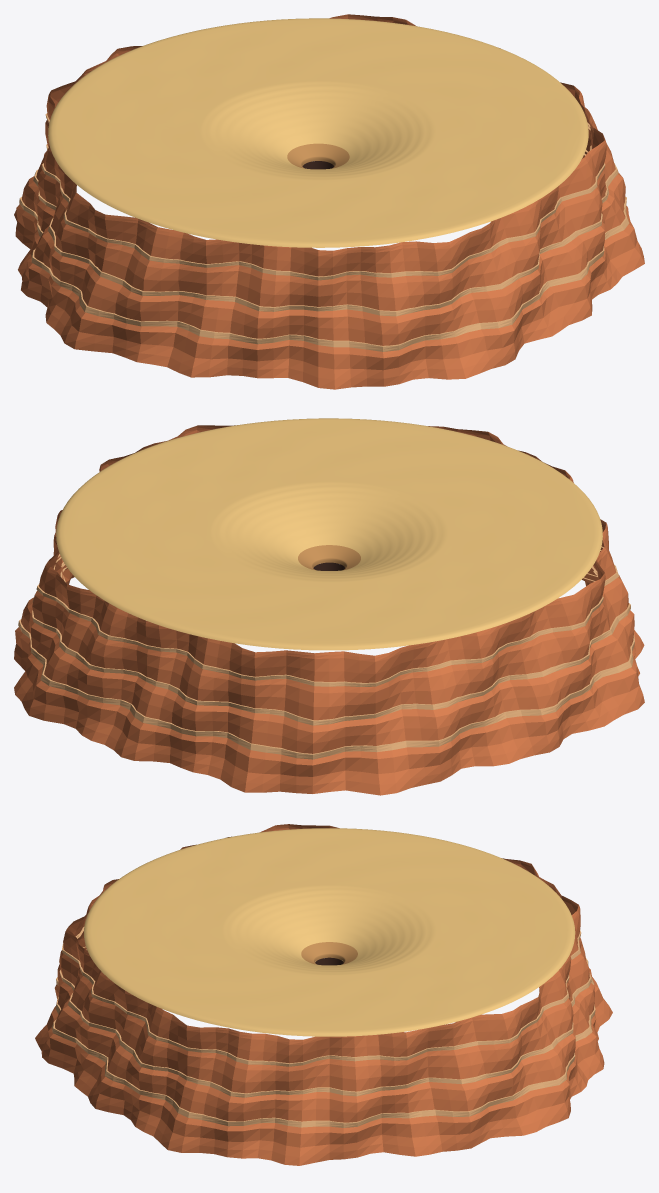
File: SandPit.obj
3 renders of one model, top to bottom at view 1: azimuth 30°, elevation 25°; view 2: azimuth 150°, elevation 25°; view 3: azimuth 270°, elevation 25°, orthographic. The views are drawn at different scales.
Parts seen in each view (by area): view 1: Sand, Cliff, Strata, Lip; view 2: Sand, Cliff, Strata, Lip; view 3: Sand, Cliff, Strata, Lip.
Part boxes in pixels (box(x1,y1,x2,y2)): Sand: box(48, 18, 588, 247); Cliff: box(14, 14, 644, 389); Strata: box(19, 113, 629, 351); Lip: box(287, 143, 349, 168); Sand: box(56, 418, 602, 650); Cliff: box(14, 425, 644, 795); Strata: box(18, 546, 634, 759); Lip: box(298, 545, 360, 570); Sand: box(84, 828, 575, 1036); Cliff: box(35, 824, 612, 1165); Strata: box(52, 927, 595, 1127); Lip: box(301, 942, 357, 964).
Bounding box in the file's own units: 200 × 40.4 × 200.
